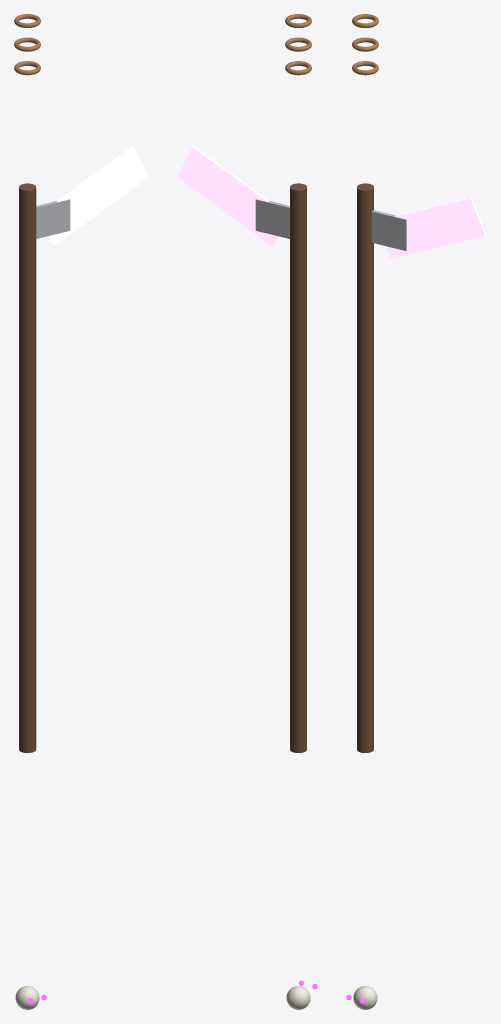
Rendered from scythe.glb.
3 renders of one model, left to right at view 1: azimuth 30°, elevation 25°; view 2: azimuth 150°, elevation 25°; view 3: azimuth 330°, elevation 25°, orthographic.
Visible parts, largest first — view 1: Cylinder, Cube, Cube.001, Sphere; view 2: Cylinder, Cube, Cube.001, Sphere; view 3: Cylinder, Cube, Cube.001, Sphere.
Part boxes in pixels (x1,y1,x2,y2): Cylinder: (19, 183, 36, 752); Cube: (48, 146, 148, 245); Cube.001: (36, 199, 70, 238); Sphere: (15, 986, 39, 1009); Cylinder: (290, 183, 306, 752); Cube: (177, 146, 277, 245); Cube.001: (255, 199, 289, 238); Sphere: (286, 986, 310, 1009); Cylinder: (357, 183, 373, 752); Cube: (385, 197, 486, 258); Cube.001: (371, 210, 406, 250); Sphere: (353, 986, 377, 1009).
Bounding box in the file's own units: 0.2352 × 1.68 × 0.055.
